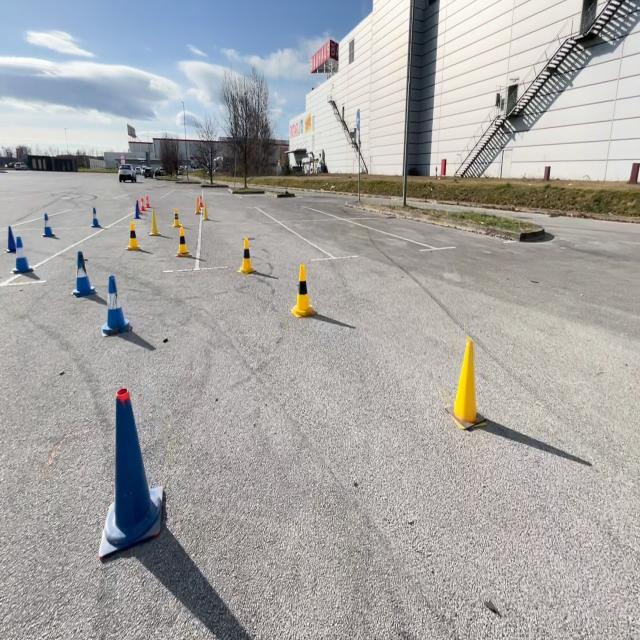blue_cone: (112, 382, 162, 551), (569, 0, 639, 50), (101, 272, 130, 334), (72, 250, 95, 296), (12, 235, 33, 274), (5, 224, 18, 255), (41, 211, 54, 238), (132, 194, 143, 221), (90, 205, 101, 228)
orange_cone: (197, 192, 206, 212), (143, 194, 150, 210)
yellow_cone: (445, 332, 488, 431), (289, 262, 316, 318), (236, 236, 255, 274), (175, 223, 190, 258), (126, 219, 140, 250), (170, 204, 182, 236), (149, 208, 160, 236), (201, 199, 209, 220), (195, 194, 203, 214)
